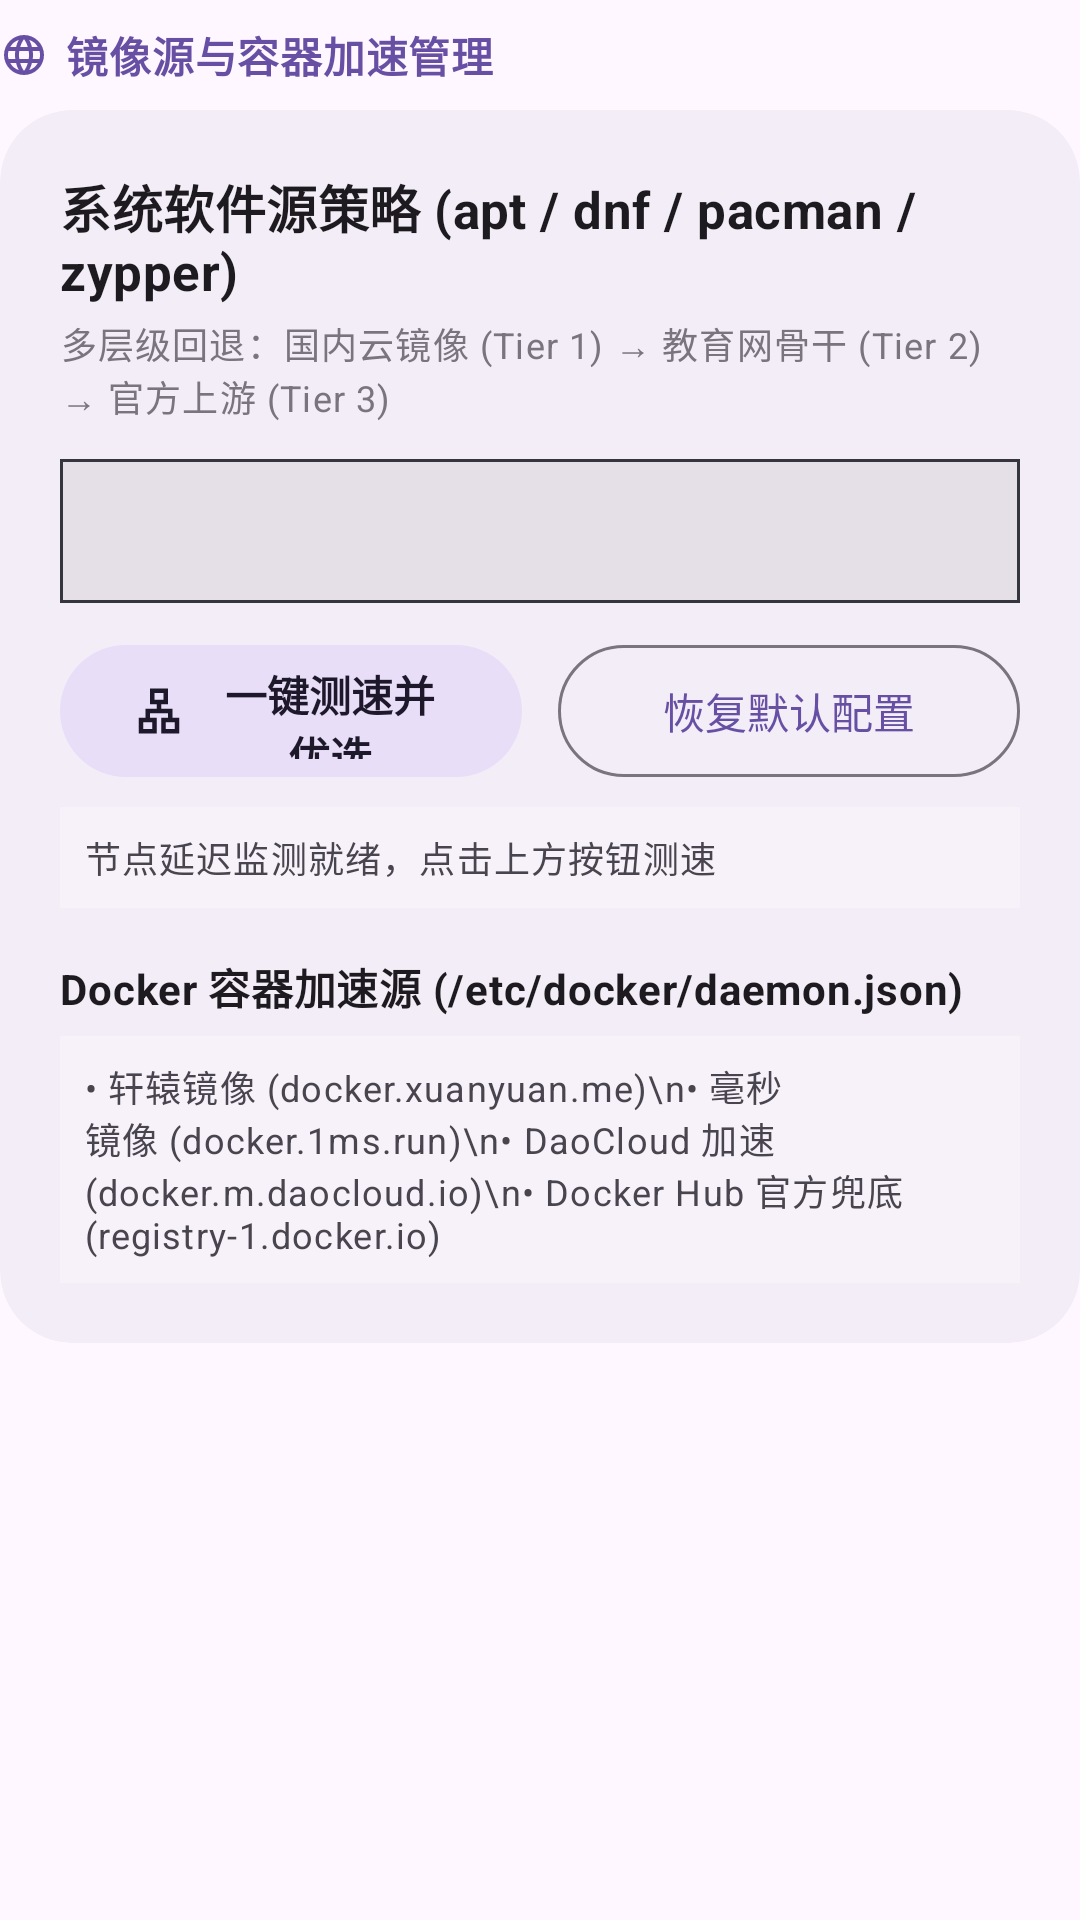

Named icons in this screenshot (1080w x 1920h) and their bounding boxes, [x1=x1, y1=y1, x2=x2, y2=y2]:
sym globe: [x1=4, y1=35, x2=44, y2=75]
